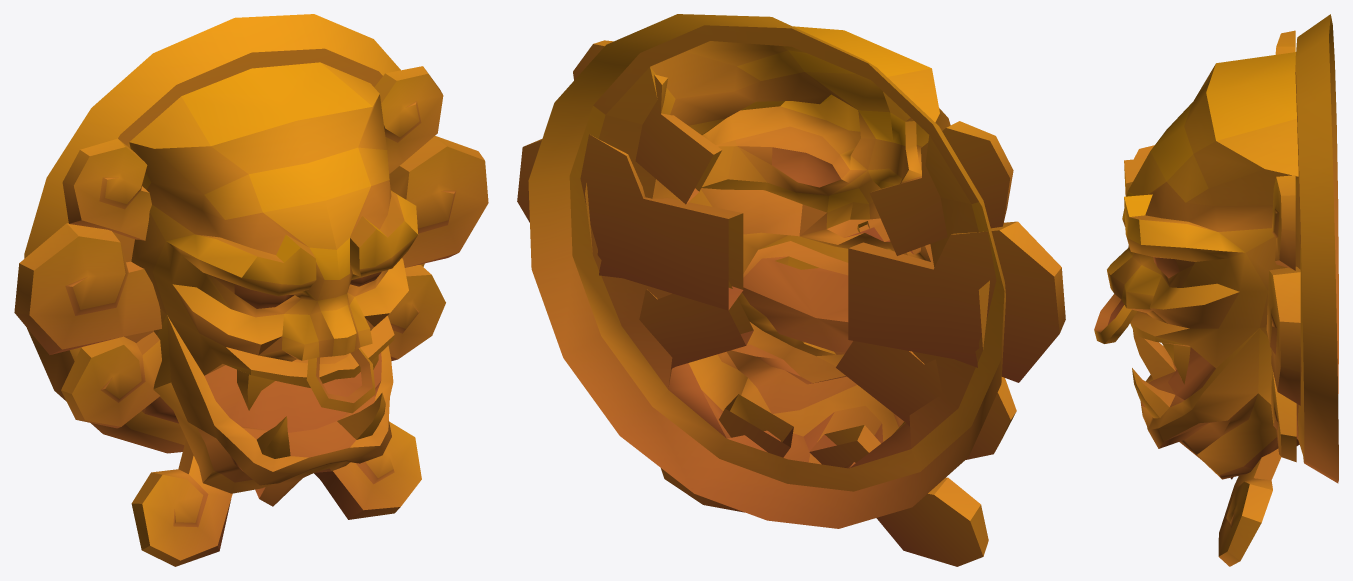
Rendered from wall_decor_4.glb.
The picture shows the model from 3 angles, left to right: view 1: azimuth 30°, elevation 25°; view 2: azimuth 150°, elevation 25°; view 3: azimuth 270°, elevation 25°; orthographic projection. The views are drawn at different scales.
Parts seen in each view (by area): view 1: wall_decor_4; view 2: wall_decor_4; view 3: wall_decor_4.
Part boxes in pixels (box(x1,y1,x2,y2)): wall_decor_4: box(14, 14, 488, 566); wall_decor_4: box(517, 14, 1065, 566); wall_decor_4: box(1094, 14, 1338, 566).
Bounding box in the file's own units: 1.12 × 1.11 × 0.5154.
1 material, 1 textured.
